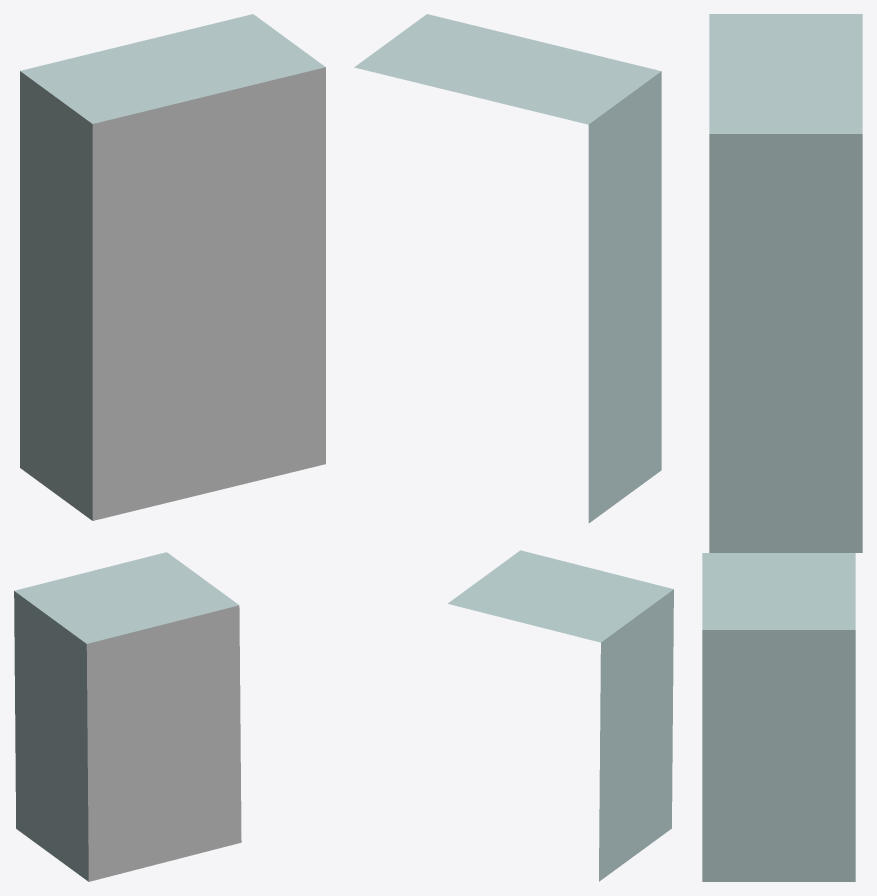
The picture shows the model from 3 angles, left to right: view 1: azimuth 30°, elevation 25°; view 2: azimuth 150°, elevation 25°; view 3: azimuth 270°, elevation 25°; orthographic projection. The views are drawn at different scales.
Visible parts, largest first — view 1: 0_3_2_1_2_3_0_0_2; view 2: 0_3_2_1_2_3_0_0_2; view 3: 0_3_2_1_2_3_0_0_2.
Boxes of the visible parts, x1=… form: 0_3_2_1_2_3_0_0_2: x1=14, y1=14, x2=325, y2=881; 0_3_2_1_2_3_0_0_2: x1=354, y1=14, x2=673, y2=881; 0_3_2_1_2_3_0_0_2: x1=702, y1=14, x2=862, y2=881.
Bounding box in the file's own units: 5.78 × 17.17 × 3.13.
